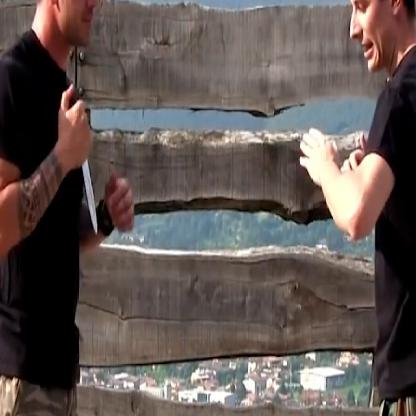knife: (59, 81, 100, 241)
